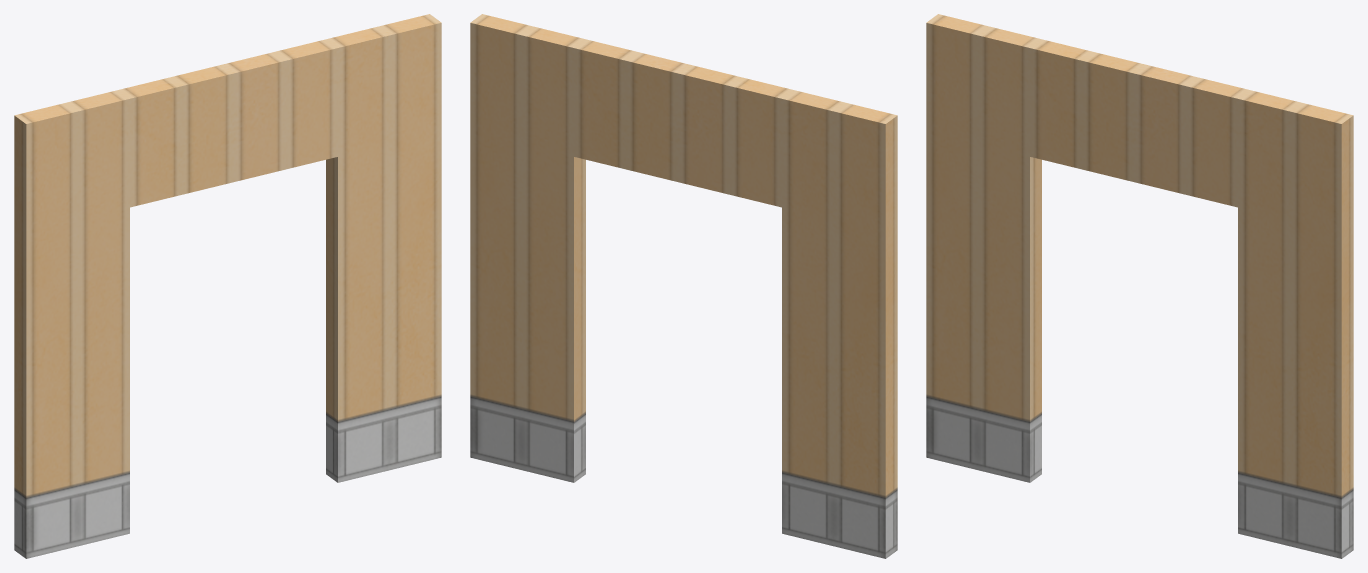
File: Wall_8_B.fbx
3 views of the same model, side by side, from view 1: azimuth 30°, elevation 25°; view 2: azimuth 150°, elevation 25°; view 3: azimuth 330°, elevation 25° (orthographic).
Parts seen in each view (by area): view 1: pCube72; view 2: pCube72; view 3: pCube72.
Part boxes in pixels (bbox=[...]): pCube72: bbox=[14, 14, 441, 558]; pCube72: bbox=[470, 14, 897, 558]; pCube72: bbox=[926, 14, 1353, 558].
Bounding box in the file's own units: 4 × 4 × 0.2.
